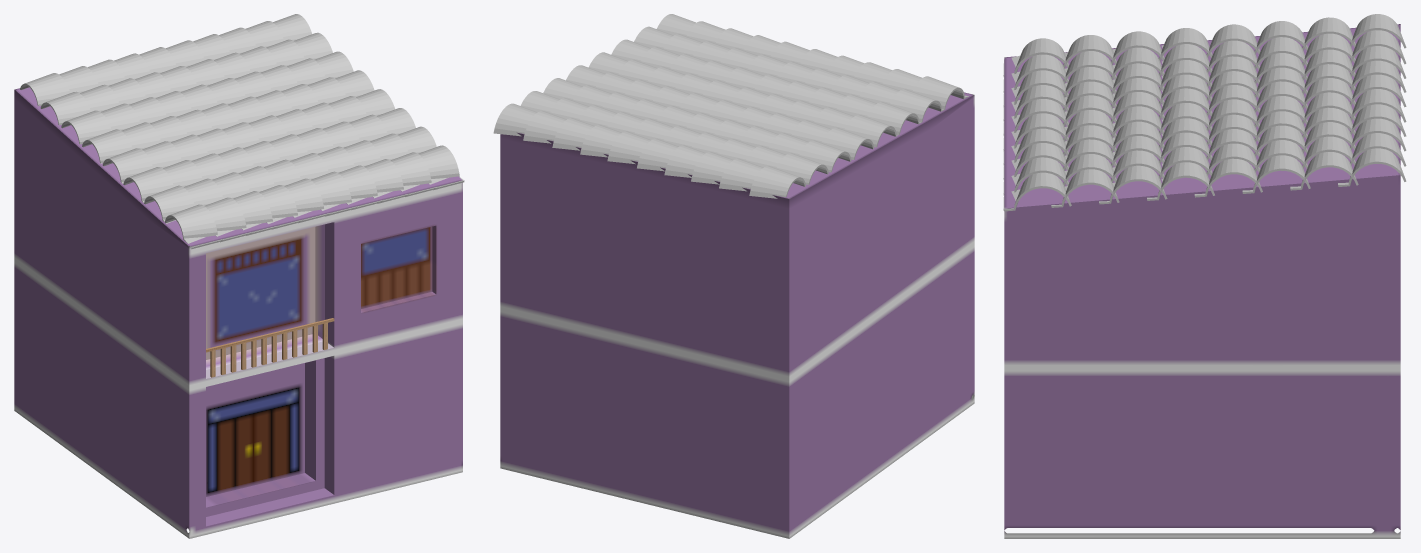
The model's file is sobrado.fbx.
3 renders of one model, left to right at view 1: azimuth 30°, elevation 25°; view 2: azimuth 150°, elevation 25°; view 3: azimuth 270°, elevation 25°, orthographic. The views are drawn at different scales.
Parts seen in each view (by area): view 1: Cube, Circle.006, Cube.001; view 2: Cube, Circle.006; view 3: Cube, Circle.006.
Part boxes in pixels (x1,y1,x2,y2): Cube: (14,87,462,538); Circle.006: (20,14,464,249); Cube.001: (206,318,334,377); Cube: (500,92,974,538); Circle.006: (493,14,968,198); Cube: (1004,24,1400,538); Circle.006: (1003,14,1406,211).
Size of the model in its own units: 511 by 588 by 567.
